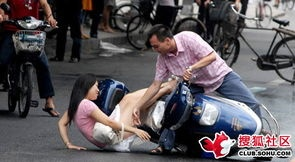falling: (64, 68, 195, 157)
